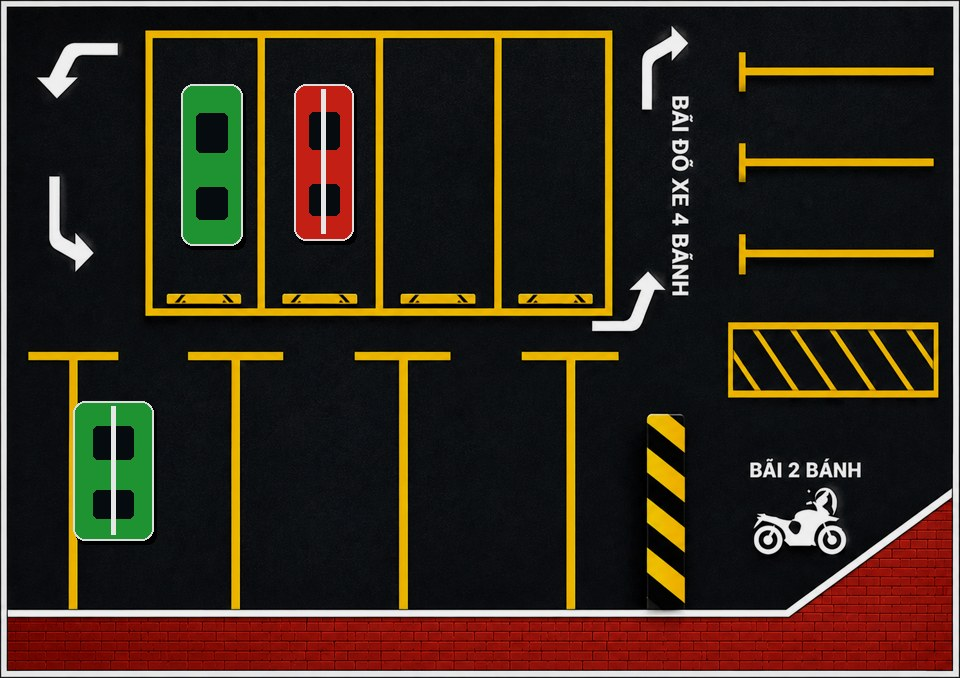empty: (360, 351, 518, 598), (201, 351, 357, 598), (524, 351, 672, 598), (386, 35, 505, 309), (505, 35, 624, 309)
occupied: (35, 351, 199, 598), (148, 35, 267, 309), (267, 35, 386, 309)
